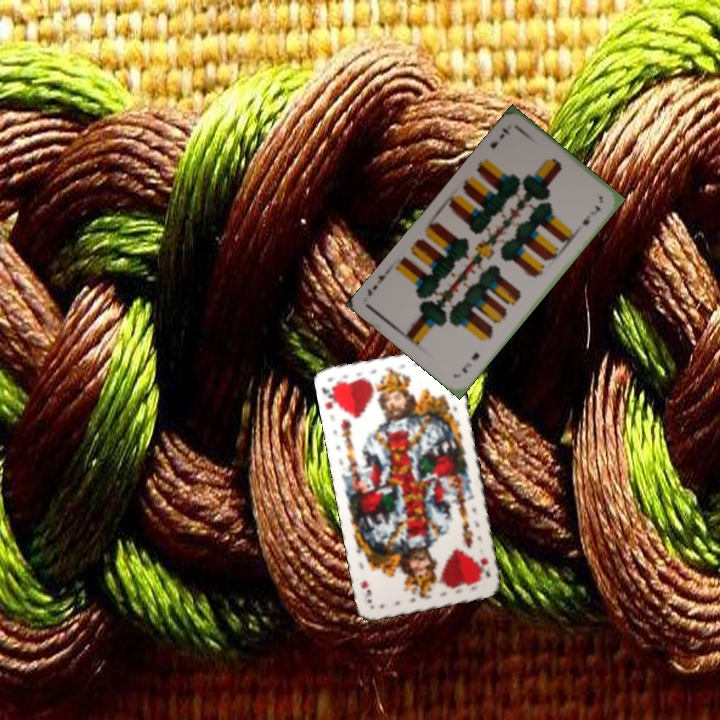E7: (486, 124, 513, 151), (457, 348, 482, 376)
HK: (318, 381, 342, 414), (473, 553, 493, 580)
